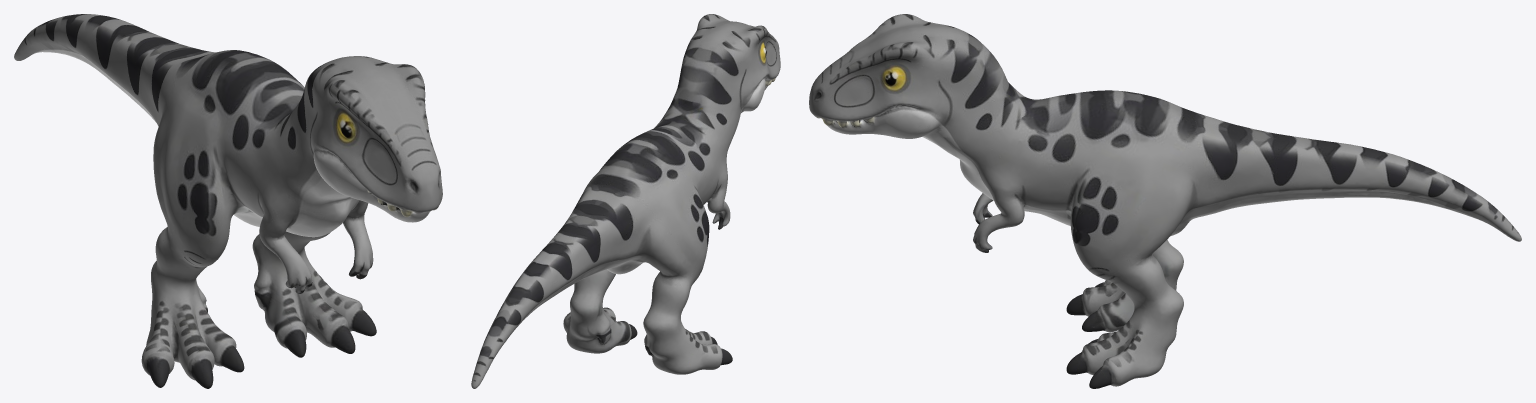
File: G-dino.glb
3 views of the same model, side by side, from view 1: azimuth 30°, elevation 25°; view 2: azimuth 150°, elevation 25°; view 3: azimuth 270°, elevation 25° (orthographic). The views are drawn at different scales.
Bounding box in the file's own units: 0.5822 × 0.9322 × 1.9.
1 material, 1 textured.
